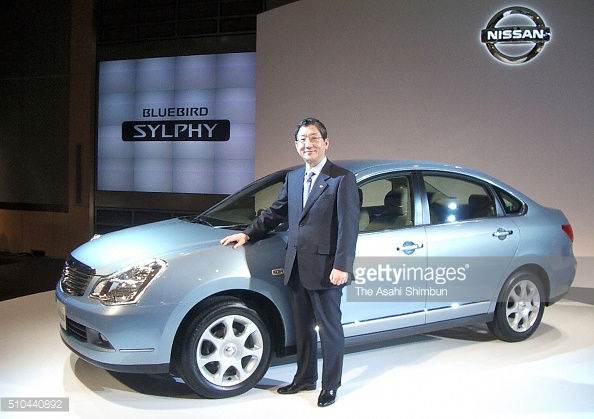em pe: (248, 119, 356, 412)
